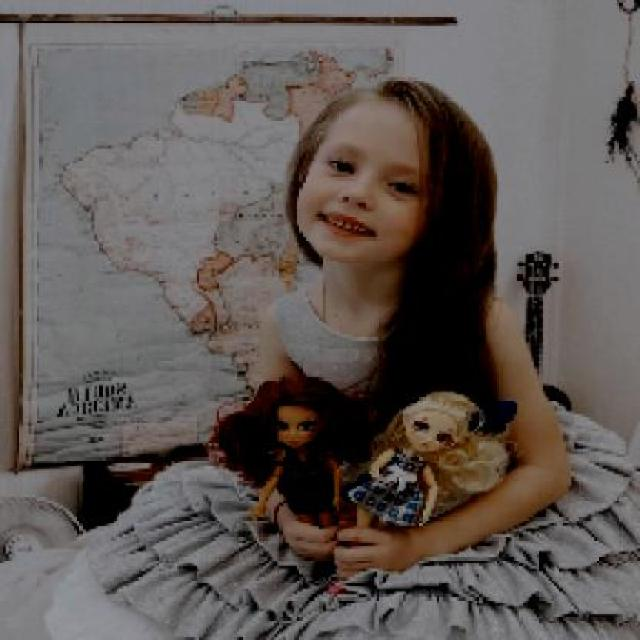child: (48, 73, 640, 638)
